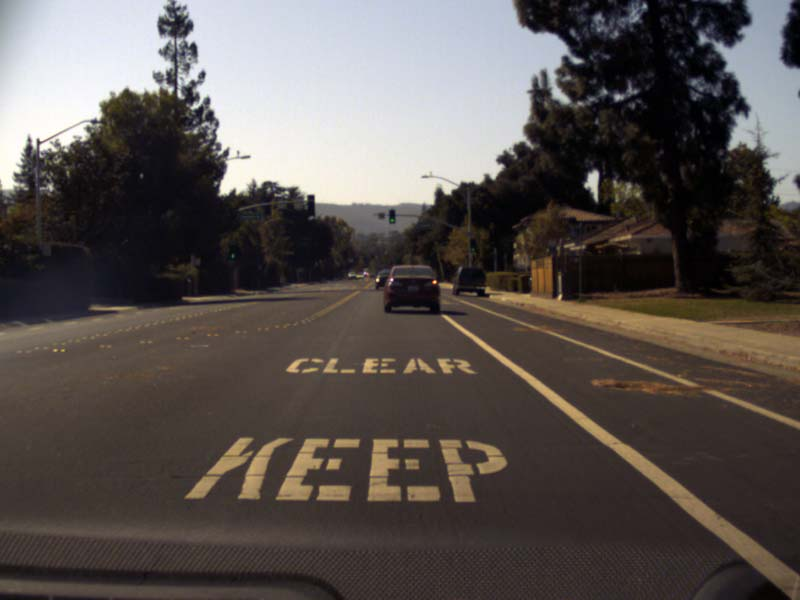Green: (228, 245, 236, 260), (389, 210, 395, 223), (470, 238, 475, 252)
